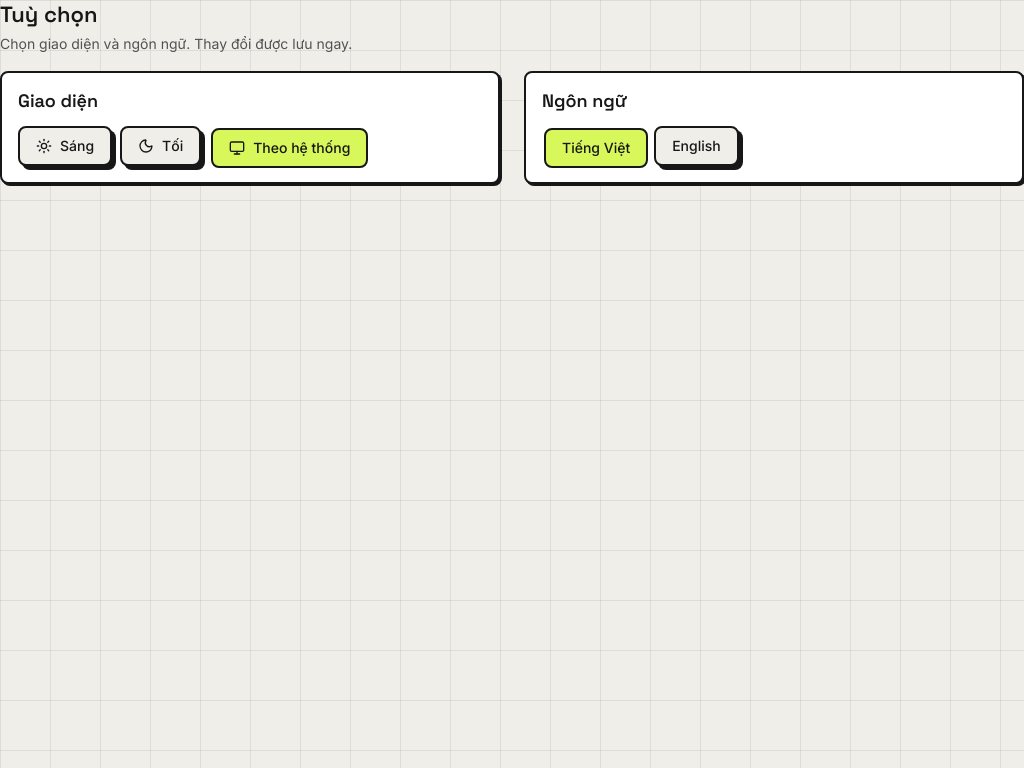
Scenario: ThemeSelector › keeps the local choice but reports a failed save
Click the button "Tối".
click(161, 146)  # box [120,126,201,166]
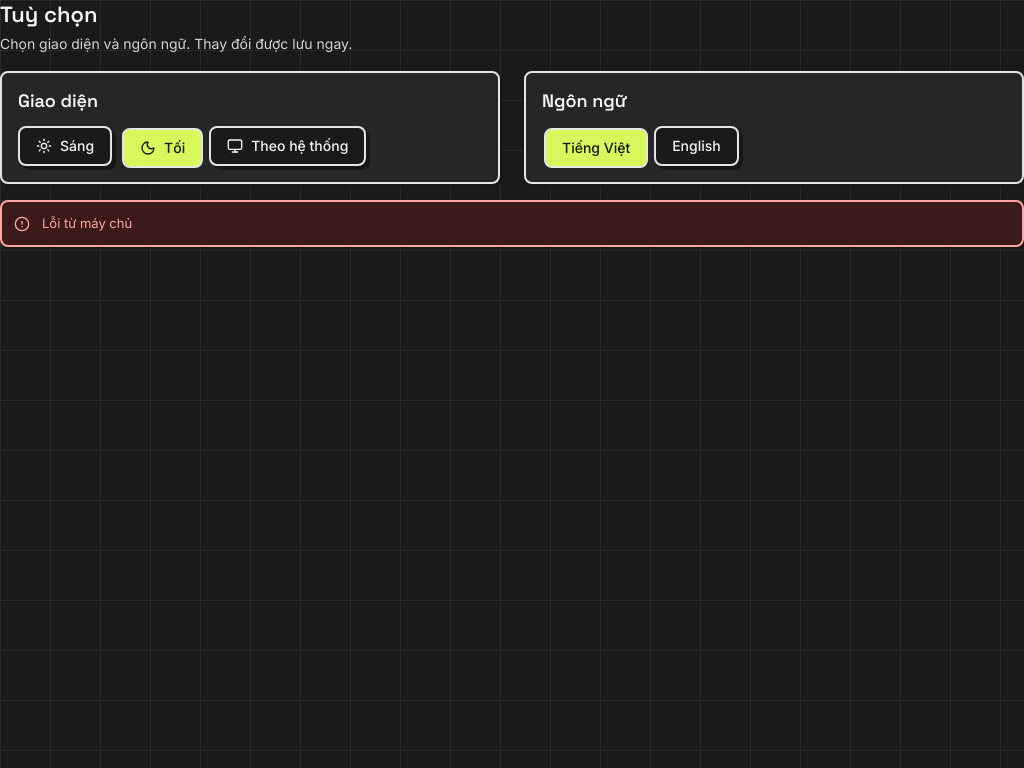
Expected: the message reads "Lỗi từ máy chủ", [42,215,132,231]
